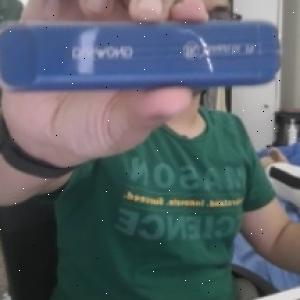Diamond-E-Ciggirate: (0, 18, 285, 96)
